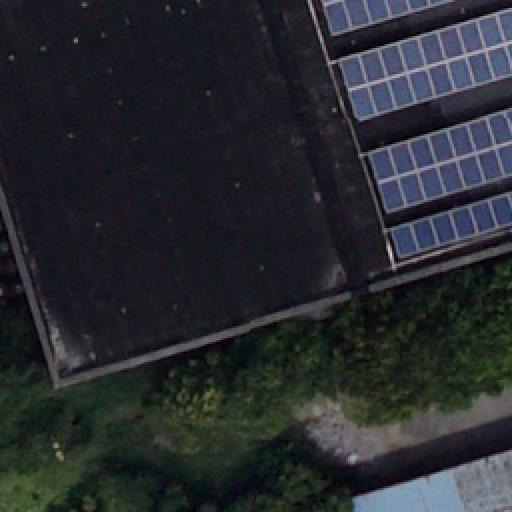solar-panel: (336, 5, 512, 123), (368, 108, 512, 216), (390, 192, 512, 260), (320, 0, 448, 36)
